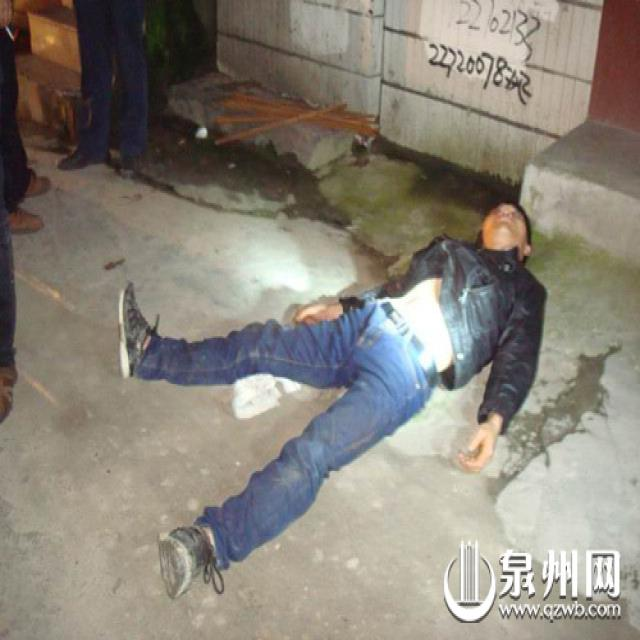fall: (150, 188, 534, 606)
